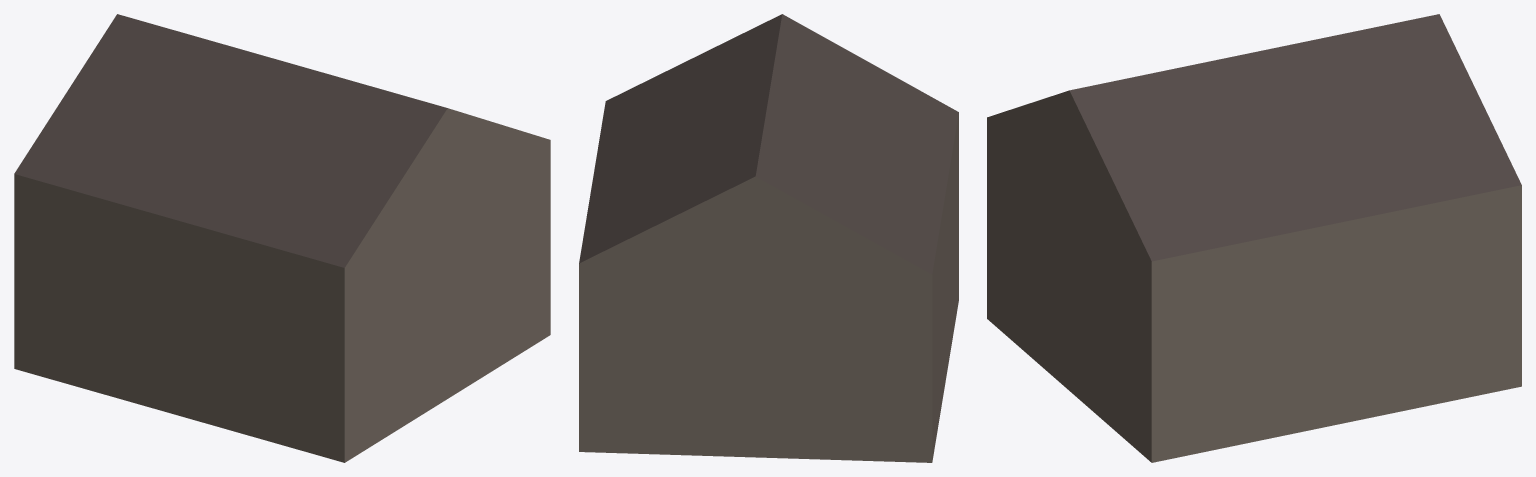
3 views of the same model, side by side, from view 1: azimuth 30°, elevation 25°; view 2: azimuth 150°, elevation 25°; view 3: azimuth 270°, elevation 25° (orthographic). The views are drawn at different scales.
Parts seen in each view (by area): view 1: HP-w859088479; view 2: HP-w859088479; view 3: HP-w859088479.
Part boxes in pixels (bbox=[...]): HP-w859088479: bbox=[14, 14, 550, 462]; HP-w859088479: bbox=[579, 14, 958, 462]; HP-w859088479: bbox=[987, 14, 1521, 462].
Size of the model in its own units: 14.08 by 8.95 by 14.44.
